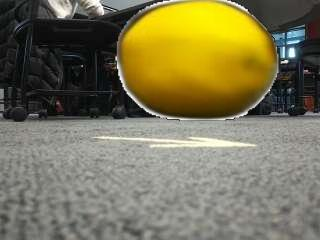lemon: (126, 5, 279, 120)
